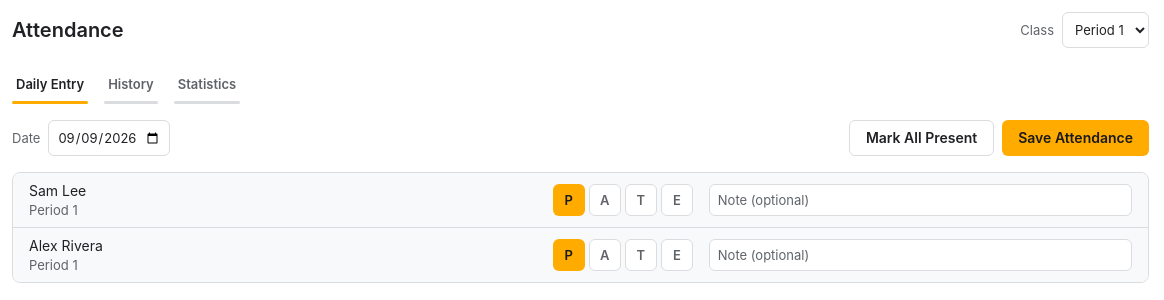
Test: AttendancePage statistics view › shows per-student aggregates and flags high-absence students
Expected: the button "Alex Rivera" is shown, [29,236,103,256]
What coordinates should you click on to do the following:
click the link "Statistics"
I would click on:
 (207, 84)
Its box is [174,64,240,104].
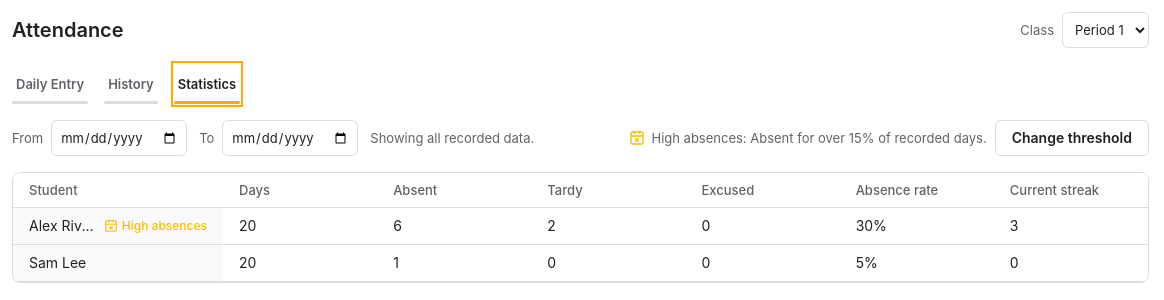
Expected: the text "30%" is shown, [840,208,994,245]
Expected: the text "Alex Rivera" is shown, [29,216,96,236]
Expected: the text "Alex Rivera" shows "High absences", [122,218,207,233]
